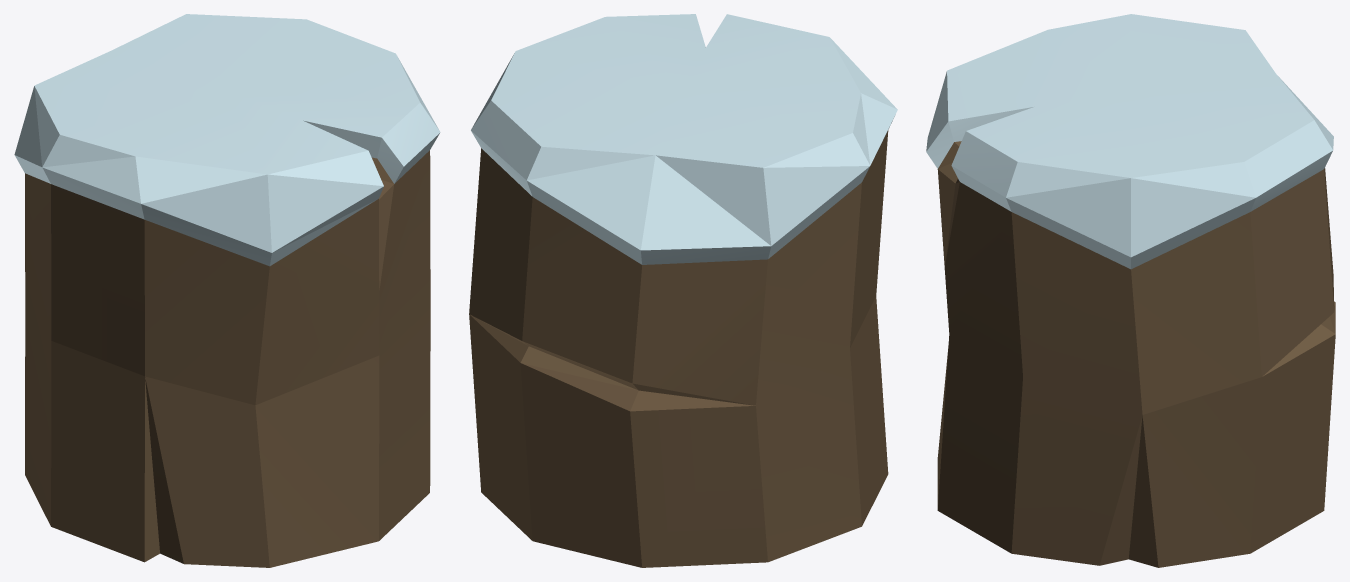
File: Pedestal_Tronco.glb
3 renders of one model, left to right at view 1: azimuth 30°, elevation 25°; view 2: azimuth 150°, elevation 25°; view 3: azimuth 270°, elevation 25°, orthographic.
Parts seen in each view (by area): view 1: SM_Prop_Anvil_Stump_01_Snow; view 2: SM_Prop_Anvil_Stump_01_Snow; view 3: SM_Prop_Anvil_Stump_01_Snow.
Part boxes in pixels (x1,y1,x2,y2): SM_Prop_Anvil_Stump_01_Snow: (14,14,440,567); SM_Prop_Anvil_Stump_01_Snow: (469,14,897,567); SM_Prop_Anvil_Stump_01_Snow: (926,14,1335,567).
Bounding box in the file's own units: 0.7184 × 0.7247 × 0.6885.
1 material, 1 textured.
